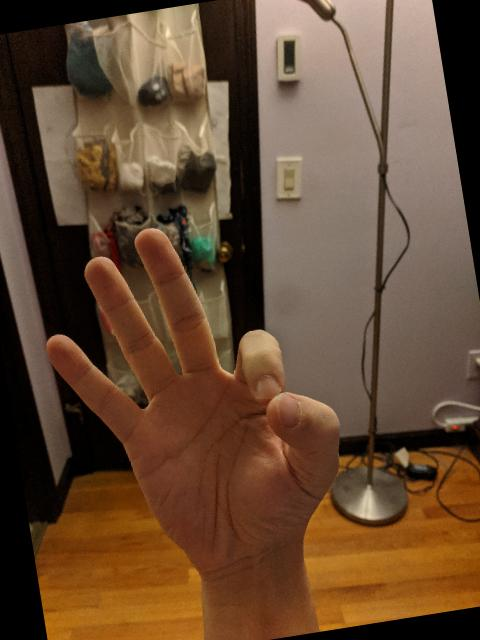F: (26, 198, 366, 600)
